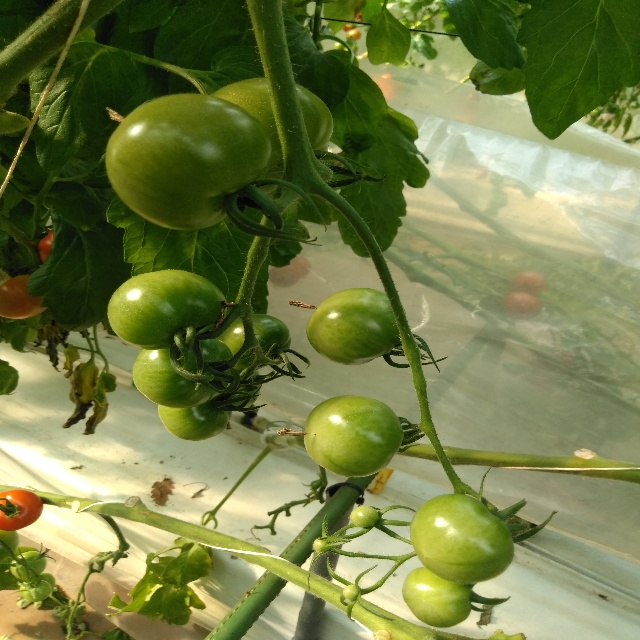l_fully_ripened: (1, 489, 43, 531)
l_green: (105, 94, 272, 230), (208, 78, 333, 195), (108, 269, 228, 350), (410, 493, 515, 583), (304, 394, 405, 477), (306, 287, 406, 365), (132, 333, 233, 409), (211, 313, 292, 371), (402, 567, 472, 628), (158, 396, 234, 441), (223, 366, 263, 407), (9, 551, 47, 579), (20, 579, 51, 602), (349, 506, 379, 528), (343, 585, 360, 601), (314, 538, 329, 552)
l_half_ripened: (0, 274, 51, 320)
